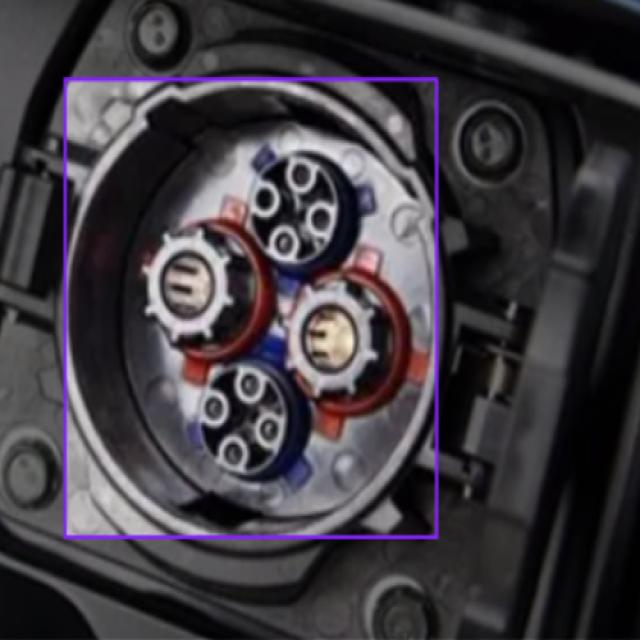CHAdeMO: (66, 79, 436, 537)
